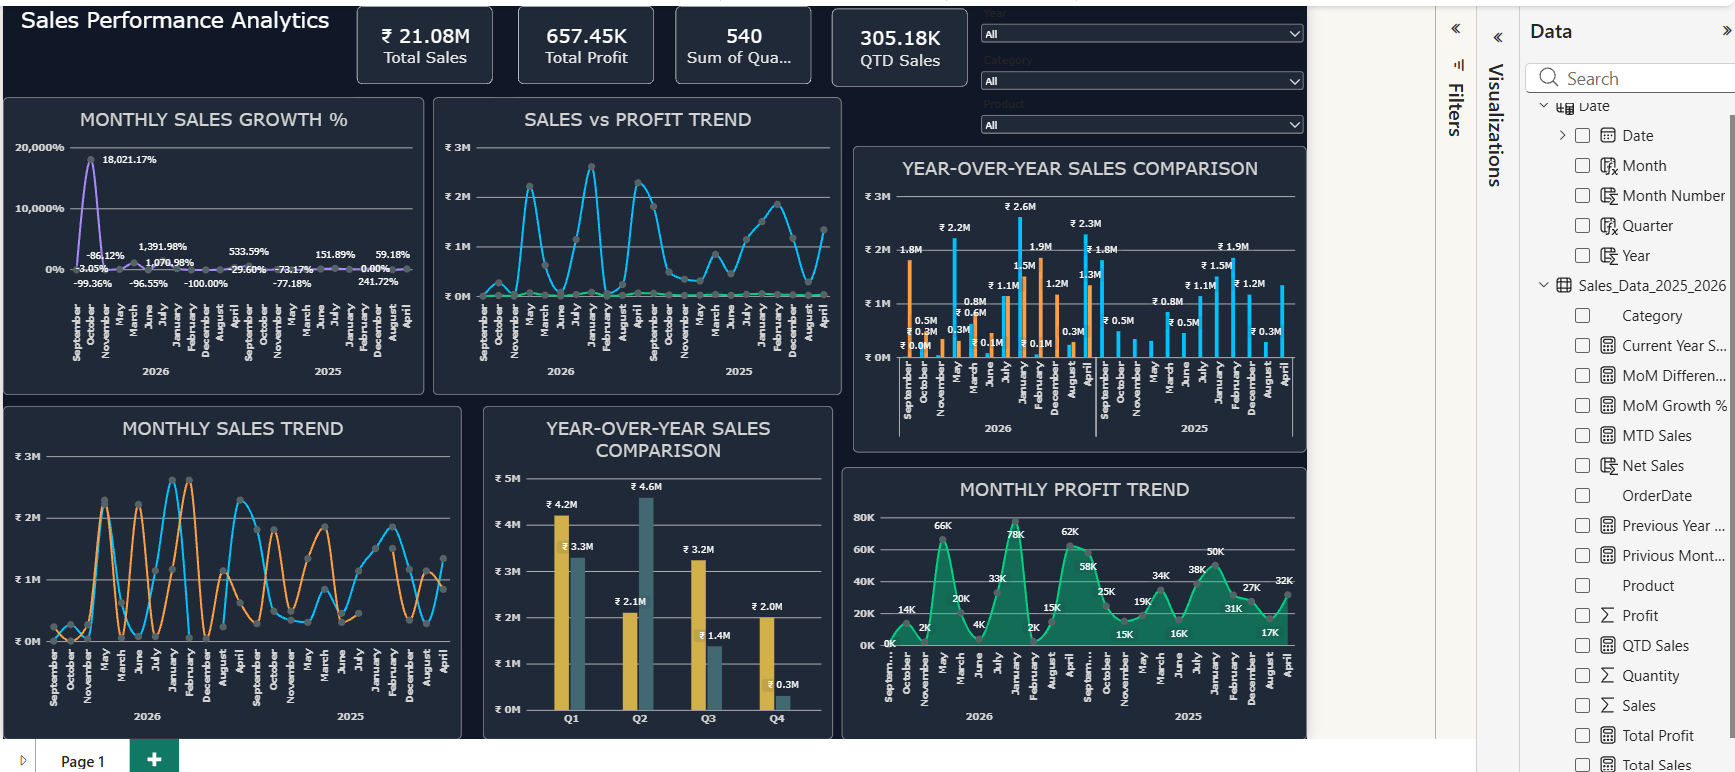

This screenshot's page, from the dashboard's own definition file:
{"tool":"powerbi","page":{"name":"Page 1","canvas":[1920,1080],"ordinal":0},"visuals":[{"type":"textbox","box":[11,0,484.1,88.3],"z":0},{"type":"slicer","fields":{"Values":["Date.Year"]},"box":[1435.6,0,484.1,69.9],"z":1},{"type":"slicer","fields":{"Values":["Sales_Data_2025_2026.Category"]},"box":[1435.6,69.9,484.1,93.9],"z":2},{"type":"slicer","fields":{"Values":["Sales_Data_2025_2026.Product"]},"box":[1435.6,134.4,484.1,88.3],"z":3},{"type":"lineChart","title":"MONTHLY SALES TREND","fields":{"Category":["Date.Year","Date.Month"],"Y":["Sales_Data_2025_2026.Total Sales","Sales_Data_2025_2026.Privious Month Sales"]},"box":[0,589,675.5,491.4],"z":4},{"type":"clusteredColumnChart","title":"YEAR-OVER-YEAR SALES COMPARISON","fields":{"Category":["Date.Year","Date.Month"],"Y":["Sales_Data_2025_2026.Total Sales","Sales_Data_2025_2026.Previous Year sales"]},"box":[1251.5,206.1,668.1,450.9],"z":5},{"type":"areaChart","title":"MONTHLY PROFIT TREND","fields":{"Category":["Date.Year","Date.Month"],"Y":["Sales_Data_2025_2026.Total Profit"]},"box":[1235,679.1,684.7,401.2],"z":6},{"type":"lineChart","title":"SALES vs PROFIT TREND","fields":{"Category":["Date.Year","Date.Month"],"Y":["Sales_Data_2025_2026.Total Sales","Sales_Data_2025_2026.Total Profit"]},"box":[633.1,134.4,601.8,438],"z":7},{"type":"lineChart","title":"MONTHLY SALES GROWTH %","fields":{"Category":["Date.Year","Date.Month"],"Y":["Sales_Data_2025_2026.MoM Growth %"]},"box":[0,134.4,620.2,438],"z":8},{"type":"clusteredColumnChart","title":"YEAR-OVER-YEAR SALES COMPARISON","fields":{"Category":["Date.Quarter"],"Series":["Date.Year"],"Y":["Sales_Data_2025_2026.Total Sales"]},"box":[706.8,589,515.3,491.4],"z":9},{"type":"cardVisual","fields":{"Data":["Sales_Data_2025_2026.Total Sales"]},"box":[520.9,0,200.9,115.3],"z":10},{"type":"cardVisual","fields":{"Data":["Sales_Data_2025_2026.Total Profit"]},"box":[759.1,0,200.9,115.3],"z":11},{"type":"cardVisual","fields":{"Data":["Sum(Sales_Data_2025_2026.Quantity)"]},"box":[989.8,0,200.9,115.3],"z":12},{"type":"cardVisual","fields":{"Data":["Sales_Data_2025_2026.QTD Sales"]},"box":[1220.5,3.7,200.9,115.3],"z":13}]}

Visuals, with their boxes in screenshot pixels (x1, y1, x2, y2):
textbox: bbox=[3, 0, 332, 60]
slicer - Date.Year: bbox=[972, 0, 1302, 48]
slicer - Sales_Data_2025_2026.Category: bbox=[972, 48, 1302, 111]
slicer - Sales_Data_2025_2026.Product: bbox=[972, 91, 1302, 152]
"MONTHLY SALES TREND" lineChart: bbox=[0, 401, 455, 735]
"YEAR-OVER-YEAR SALES COMPARISON" clusteredColumnChart: bbox=[847, 140, 1302, 447]
"MONTHLY PROFIT TREND" areaChart: bbox=[836, 462, 1302, 735]
"SALES vs PROFIT TREND" lineChart: bbox=[426, 91, 836, 390]
"MONTHLY SALES GROWTH %" lineChart: bbox=[0, 91, 418, 390]
"YEAR-OVER-YEAR SALES COMPARISON" clusteredColumnChart: bbox=[476, 401, 827, 735]
cardVisual - Sales_Data_2025_2026.Total Sales: bbox=[350, 0, 487, 78]
cardVisual - Sales_Data_2025_2026.Total Profit: bbox=[512, 0, 649, 78]
cardVisual - Sum(Sales_Data_2025_2026.Quantity): bbox=[669, 0, 806, 78]
cardVisual - Sales_Data_2025_2026.QTD Sales: bbox=[826, 3, 963, 81]
